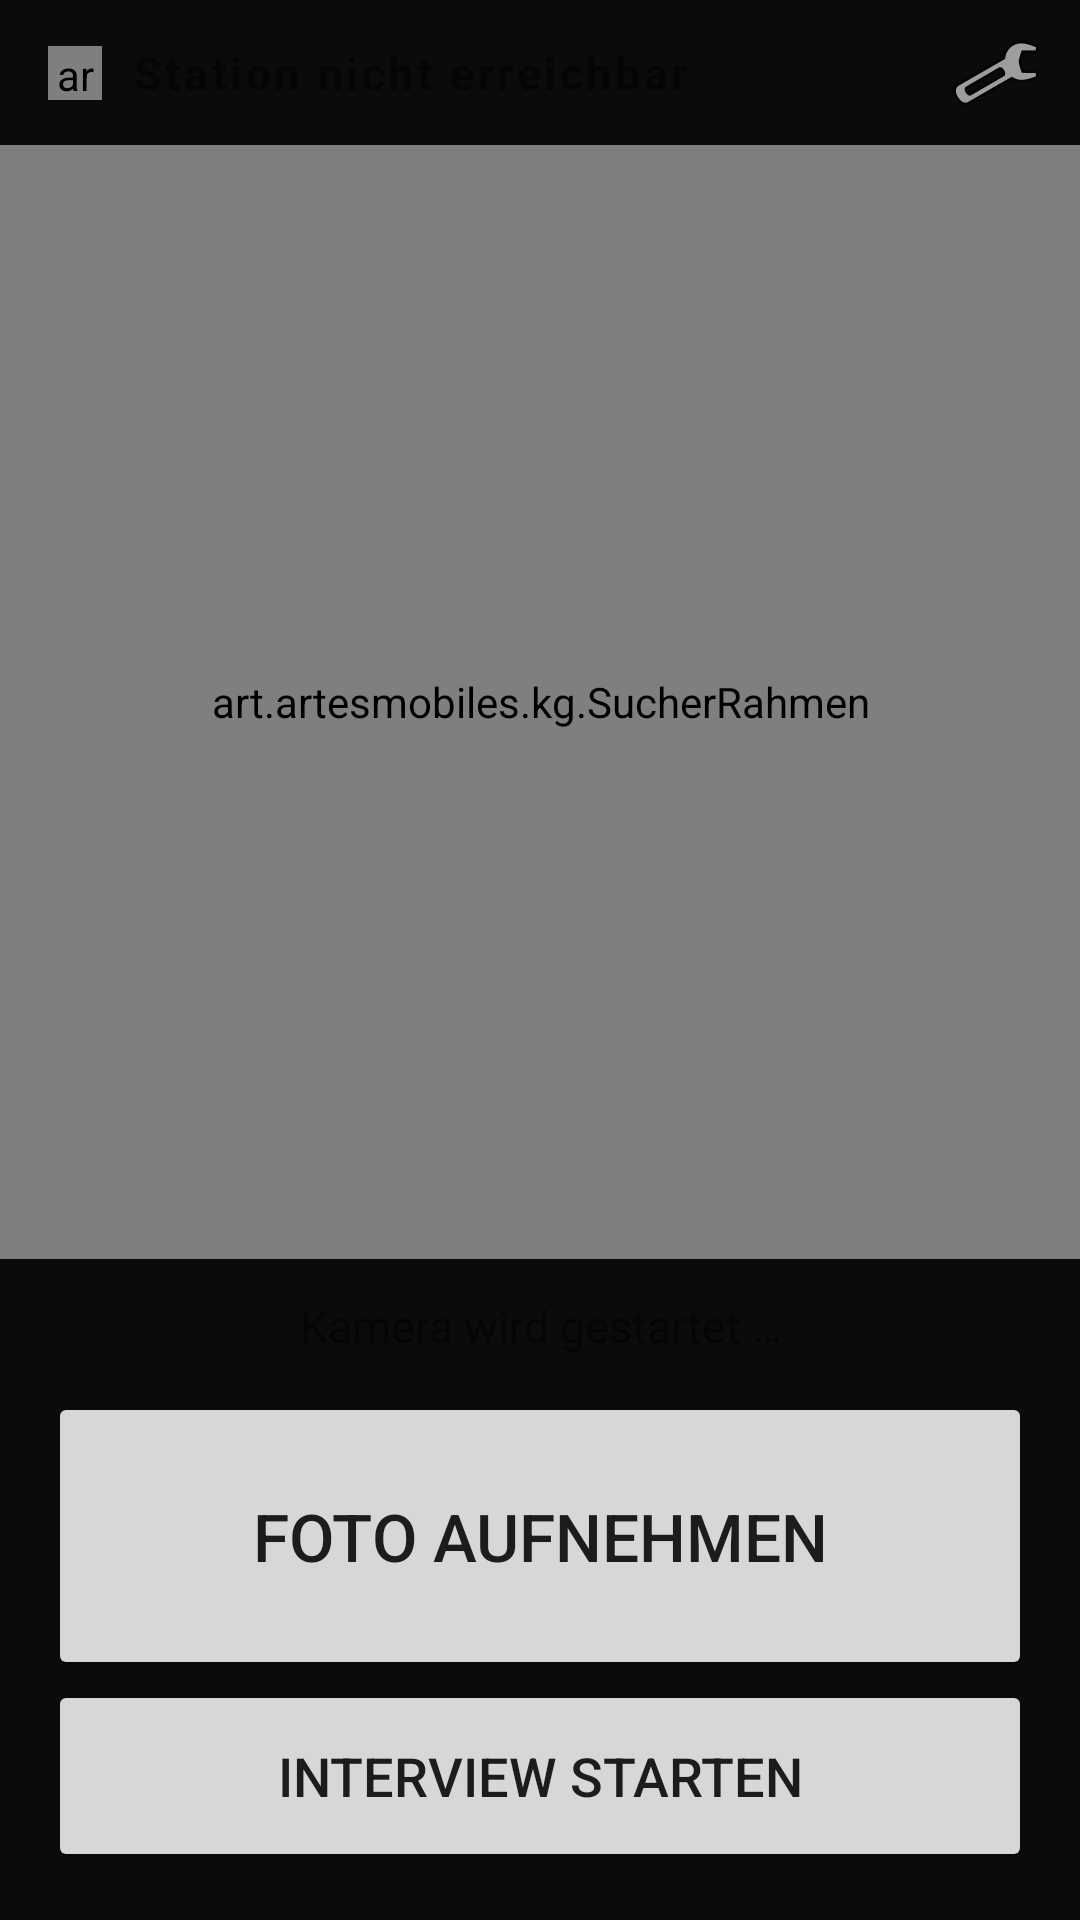

Icons on this 1080×1920 Android screen, each with the point to tap as (x,y):
Einstellungen: (996,73)
